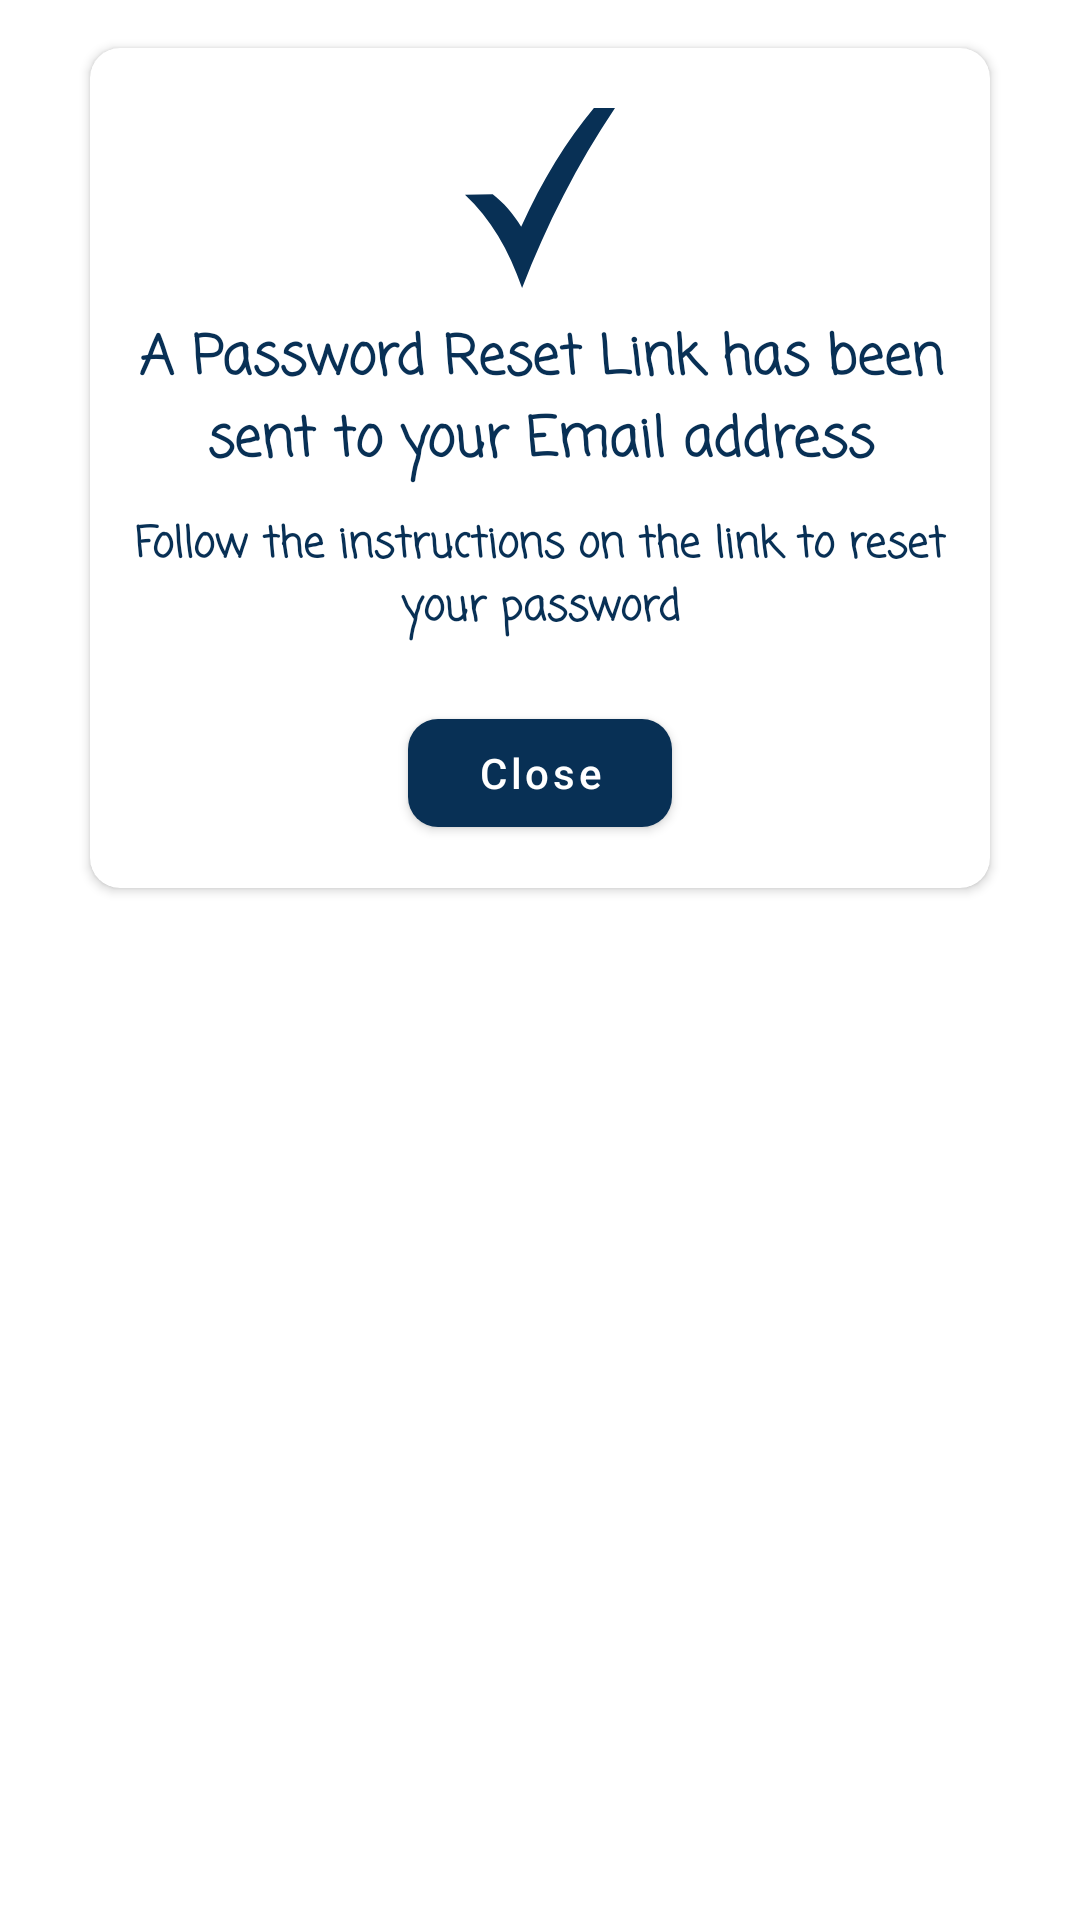

Icons on this 1080 x 1920 Android screen, each with the point to tap as point (x, y):
check mark: point (540, 198)
